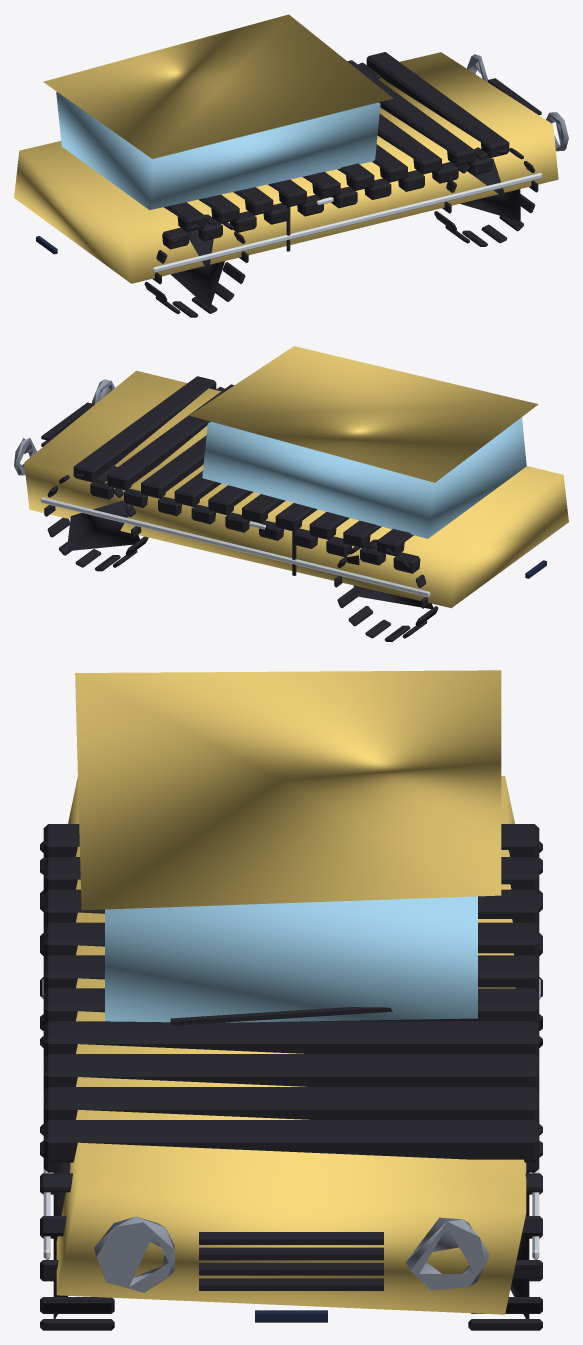
The model's file is taxi.glb.
The picture shows the model from 3 angles, top to bottom: view 1: azimuth 30°, elevation 25°; view 2: azimuth 150°, elevation 25°; view 3: azimuth 270°, elevation 25°; orthographic projection. The views are drawn at different scales.
Visible parts, largest first — view 1: taxi; view 2: taxi; view 3: taxi.
Part boxes in pixels (x1,y1,x2,y2): taxi: [14, 14, 568, 317]; taxi: [14, 346, 568, 641]; taxi: [40, 670, 542, 1330].
Bounding box in the file's own units: 4.59 × 1.53 × 2.07.
Materials: 1 (1 with a texture image).
